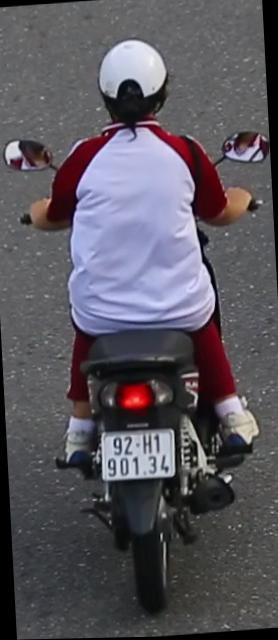LP: (100, 422, 180, 489)
helmet: (94, 30, 174, 138)
